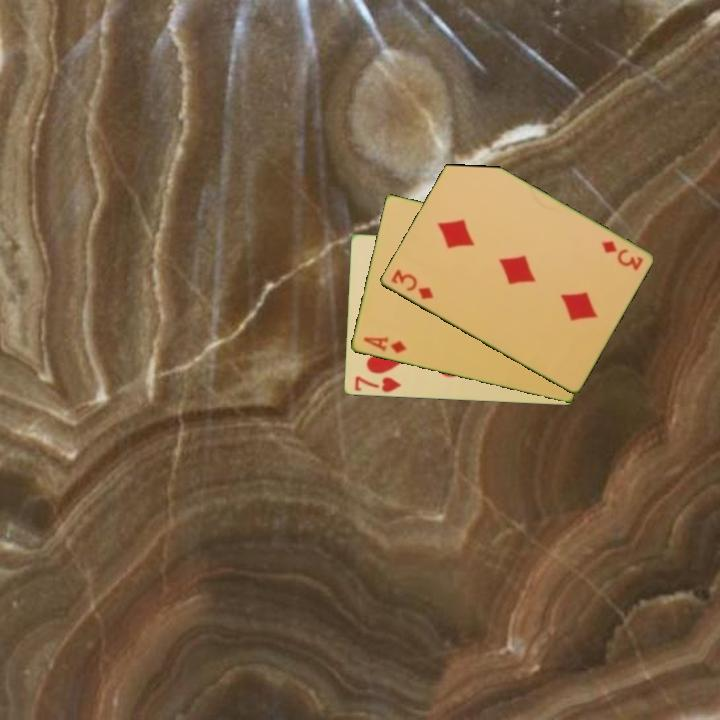3d: (387, 266, 436, 303), (597, 237, 646, 274)
7h: (351, 373, 404, 395)
Ad: (359, 333, 409, 356)
